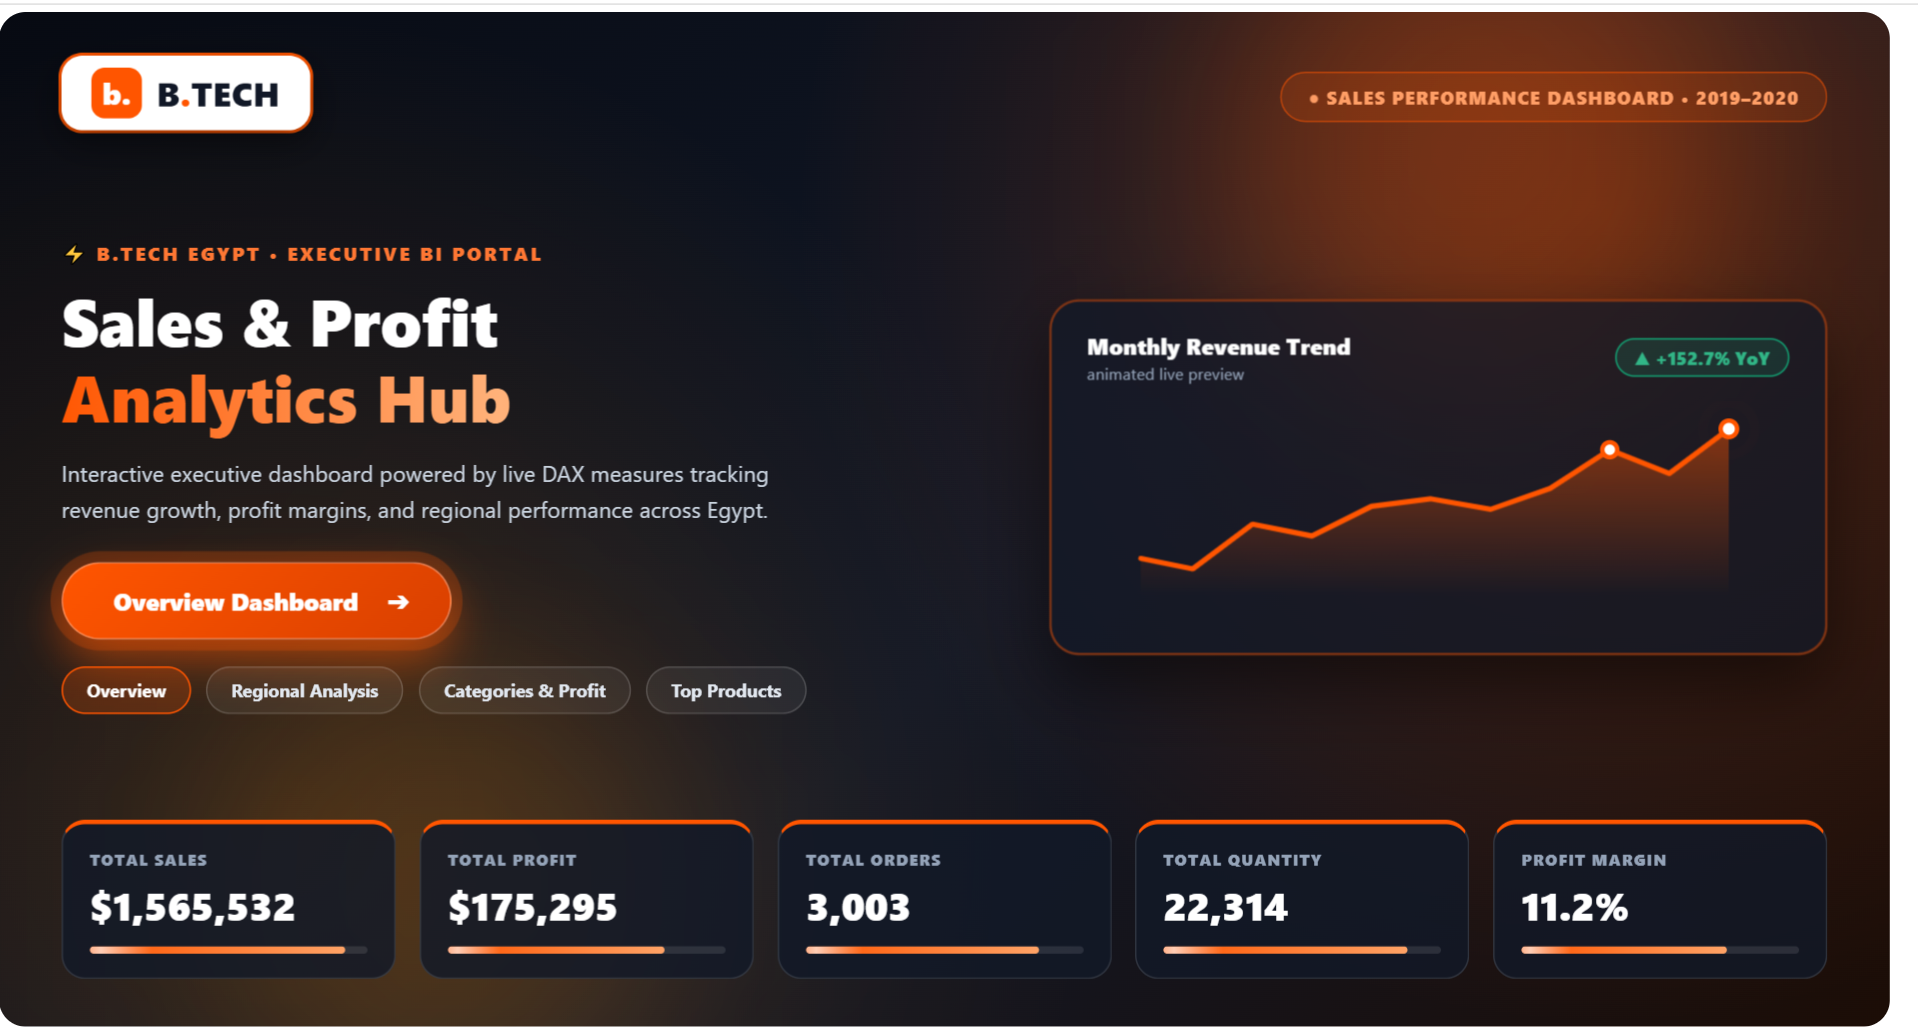

This screenshot's page, from the dashboard's own definition file:
{"tool":"powerbi","page":{"name":"Intro","canvas":[1280,720],"ordinal":0},"visuals":[{"type":"actionButton","box":[58.6,371.3,272,61.9],"z":0},{"type":"htmlContent443BE3AD55E043BF878BED274D3A6855","fields":{"content":["Dax (2).Intro_Page"]},"box":[0,0,1280,720],"z":1000},{"type":"actionButton","box":[42,378,260,46],"z":2000},{"type":"actionButton","box":[42,434,96,48],"z":3000},{"type":"actionButton","box":[138,434,134,48],"z":4000},{"type":"actionButton","box":[286,434,134,48],"z":5000},{"type":"actionButton","box":[434,434,134,48],"z":6000}]}

Visuals, with their boxes on the page's 1280x720 design canvas (x1, y1, x2, y2). These are canvas units, not pixel positions in the 1918x1033 screenshot, which may show the page scaled, cropped or inside an application window:
actionButton: left=59, top=371, right=331, bottom=433
htmlContent443BE3AD55E043BF878BED274D3A6855 - Dax (2).Intro_Page: left=0, top=0, right=1280, bottom=720
actionButton: left=42, top=378, right=302, bottom=424
actionButton: left=42, top=434, right=138, bottom=482
actionButton: left=138, top=434, right=272, bottom=482
actionButton: left=286, top=434, right=420, bottom=482
actionButton: left=434, top=434, right=568, bottom=482
